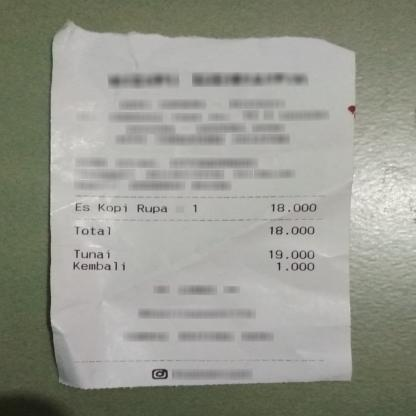receipts: (54, 28, 347, 380)
